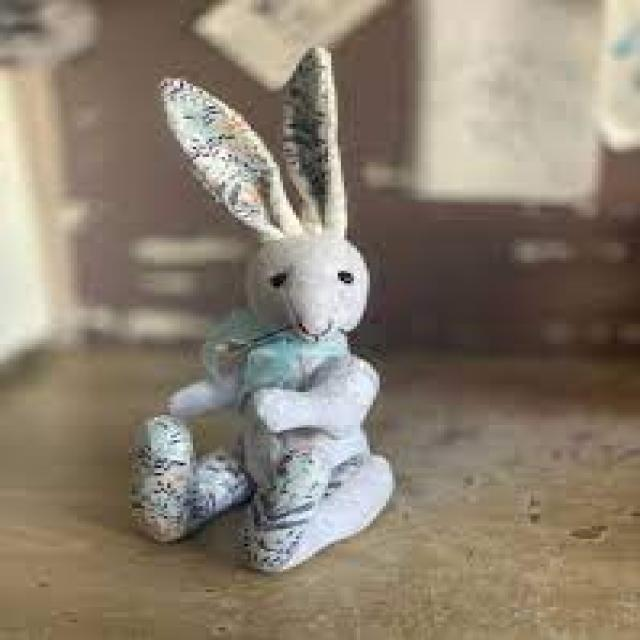soft-toy: (130, 48, 394, 571)
